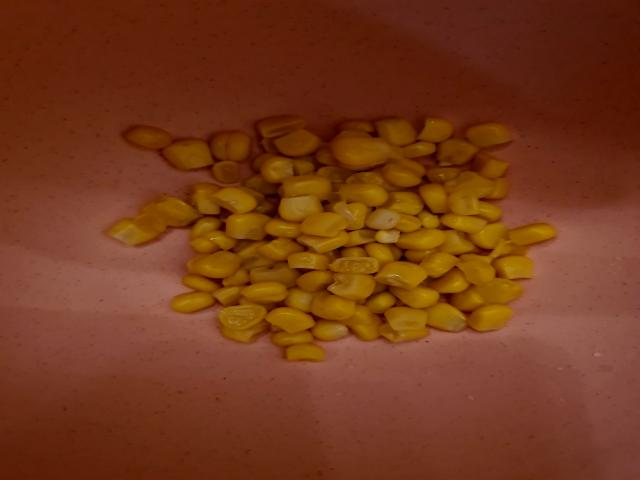kichen waste: (104, 116, 554, 361)
